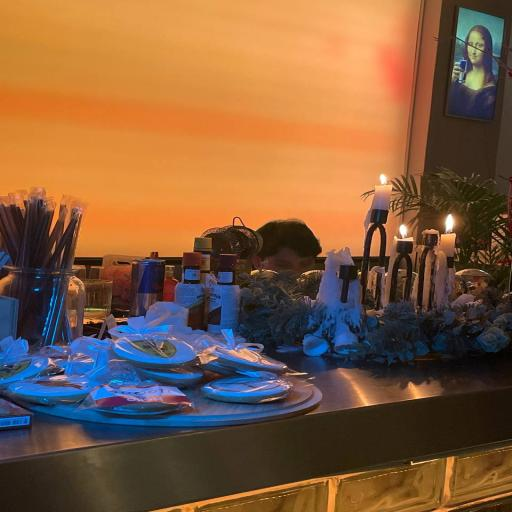crosswalk: (246, 216, 330, 276)
phone: (0, 263, 511, 460)
